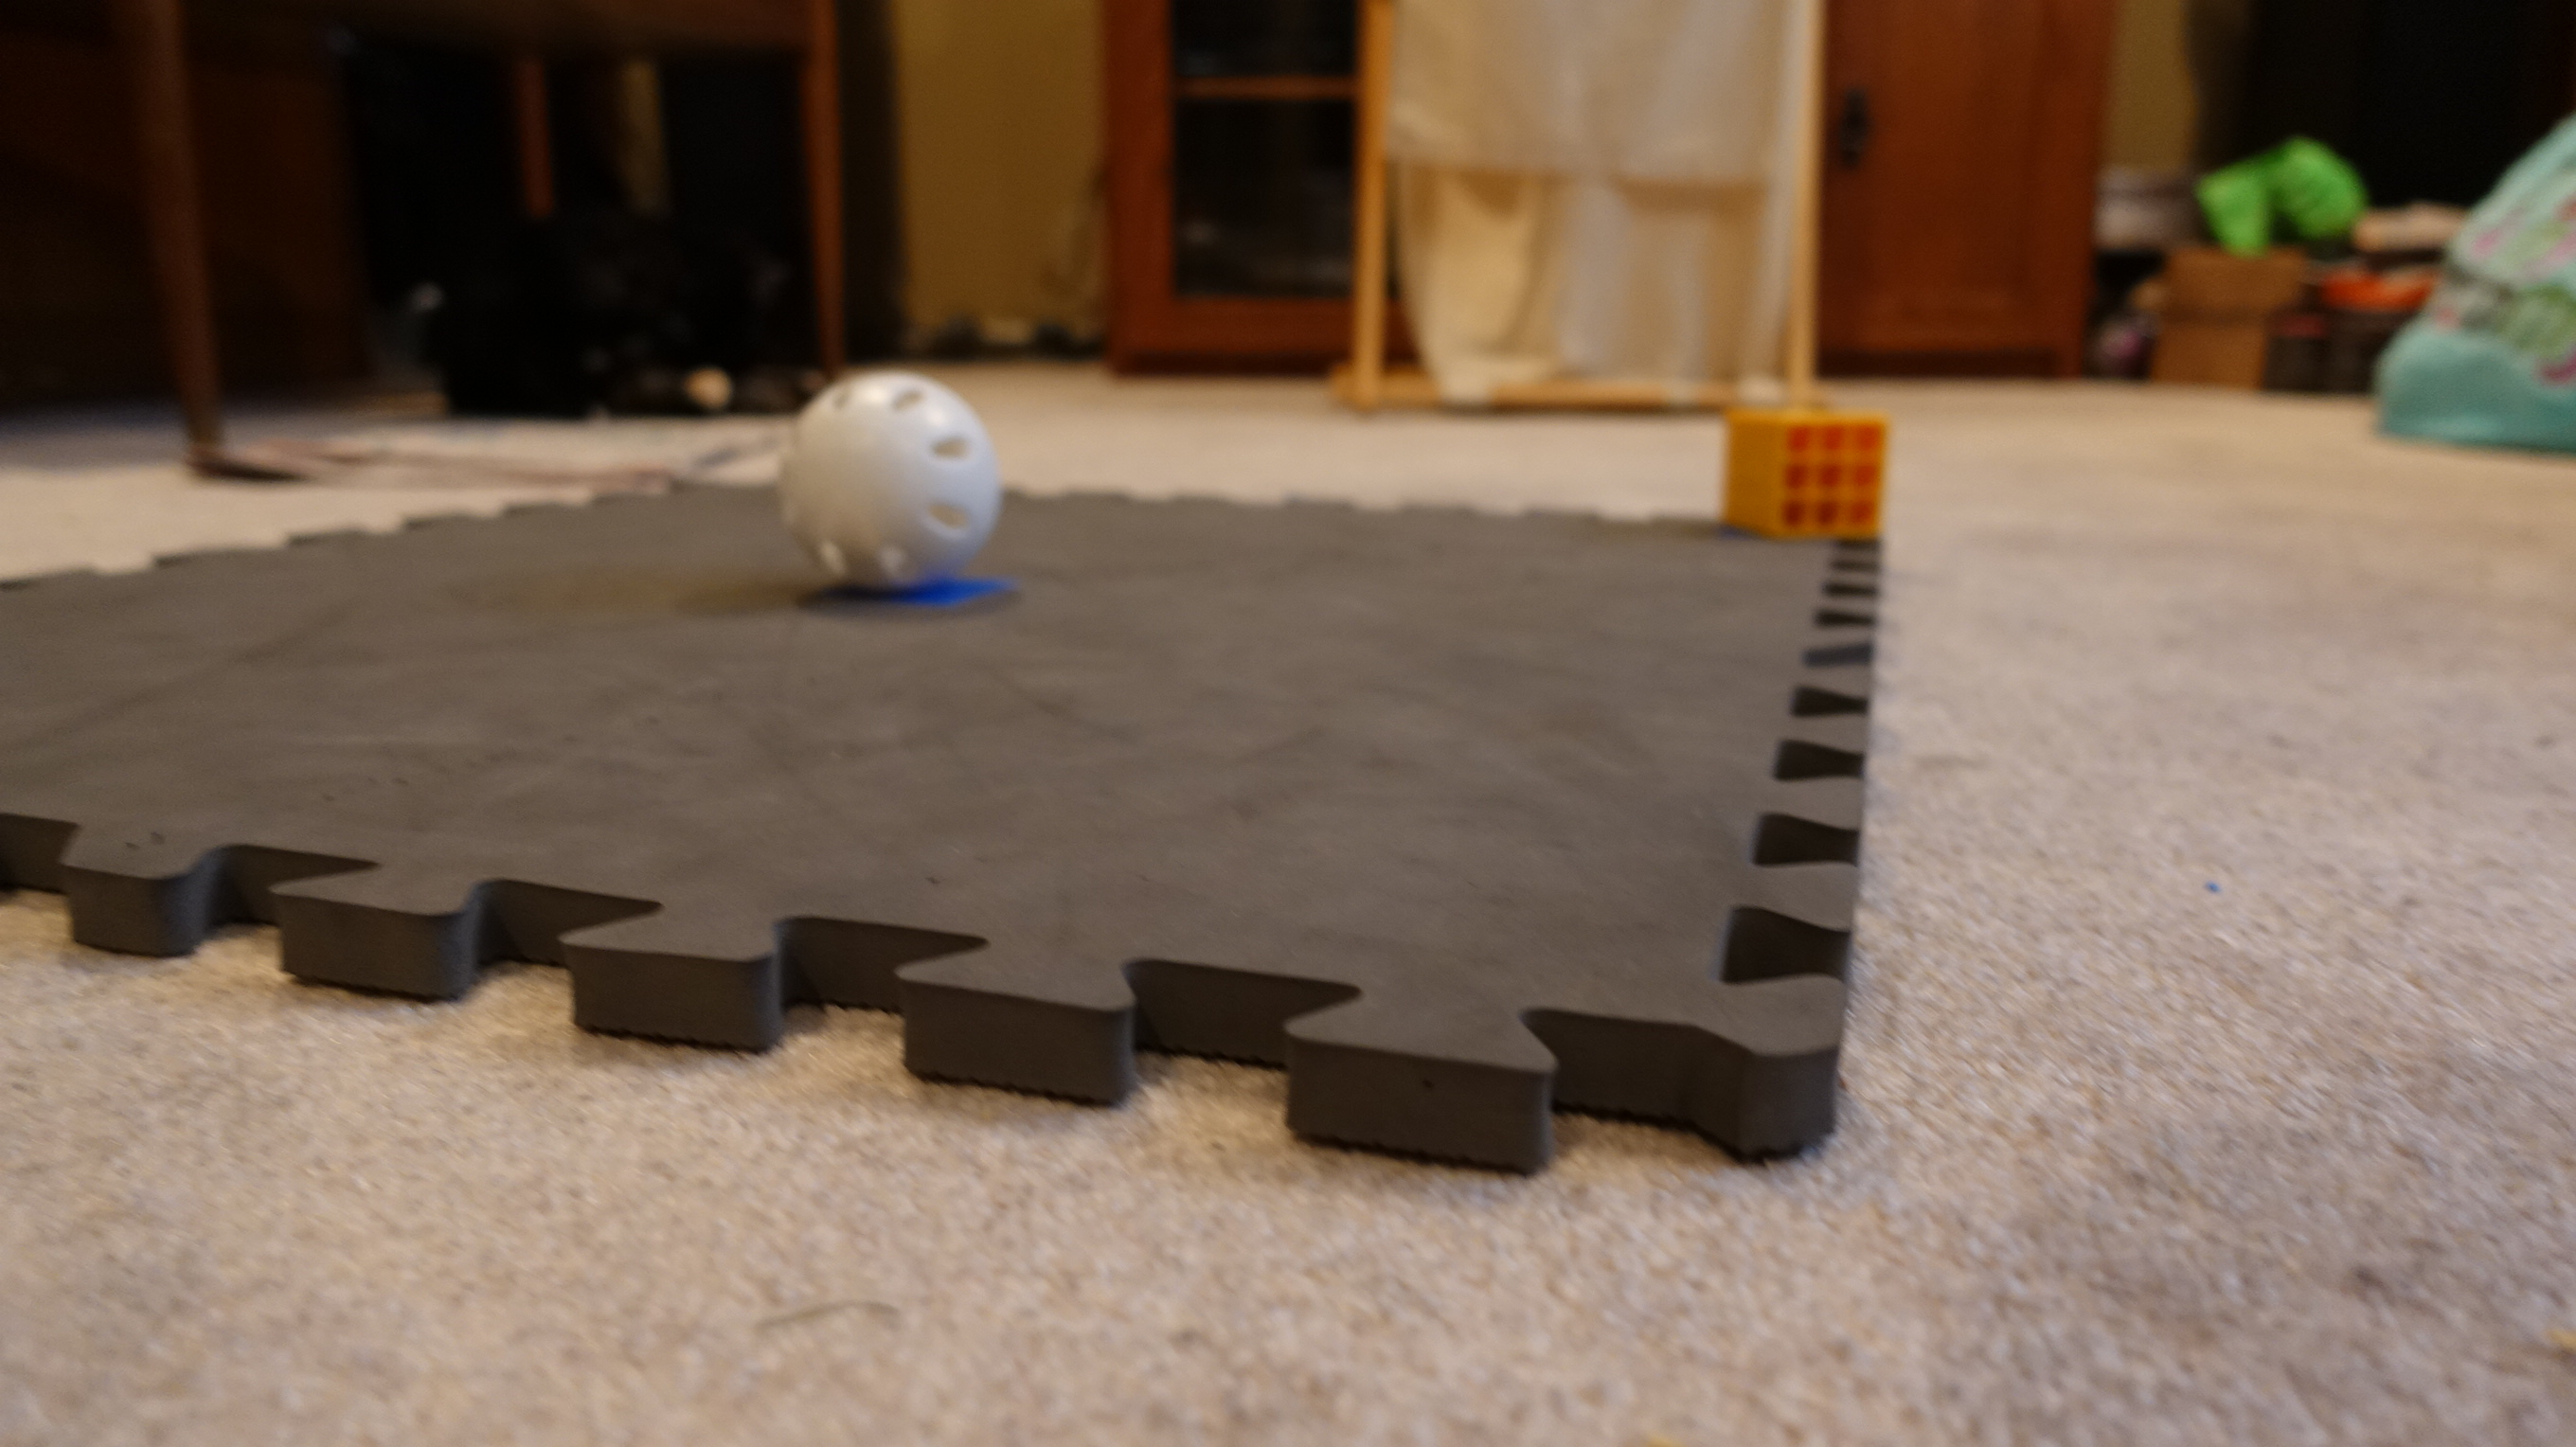gold: (1716, 391, 1900, 545)
silver: (770, 354, 1010, 600)
